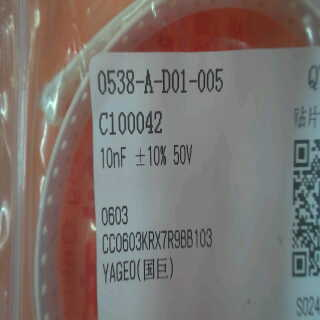10nF: (99, 145, 132, 168)
